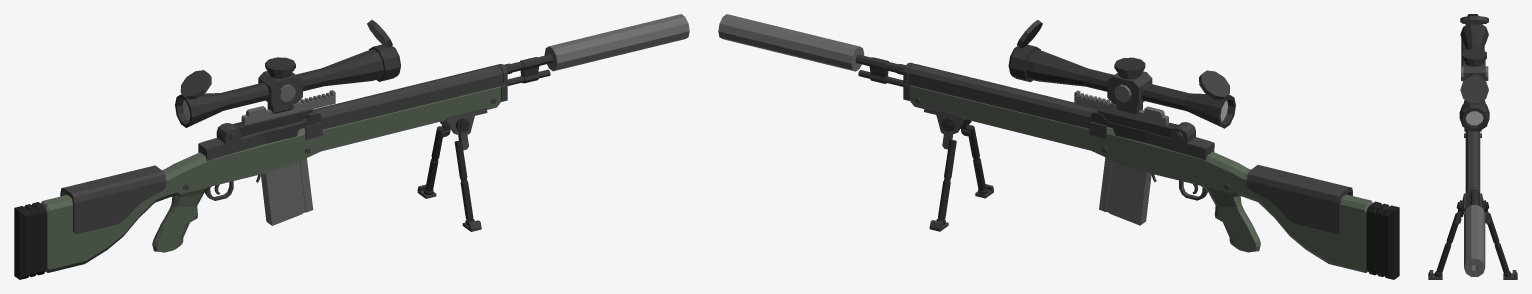
Rendered from SM_Rifle_03.glb.
3 renders of one model, left to right at view 1: azimuth 30°, elevation 25°; view 2: azimuth 150°, elevation 25°; view 3: azimuth 270°, elevation 25°, orthographic. The views are drawn at different scales.
Parts seen in each view (by area): view 1: SM_Rifle_03; view 2: SM_Rifle_03; view 3: SM_Rifle_03.
Part boxes in pixels (x1,y1,x2,y2): SM_Rifle_03: (14,14,689,279); SM_Rifle_03: (718,14,1399,279); SM_Rifle_03: (1428,14,1517,279).
Bounding box in the file's own units: 1.82 × 0.5385 × 0.253.
1 material, 1 textured.
